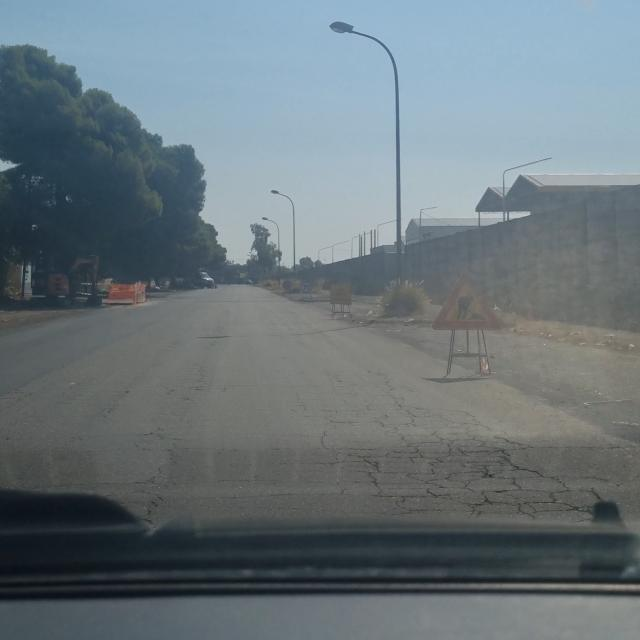forb_speed_over_20: (300, 280, 315, 294)
